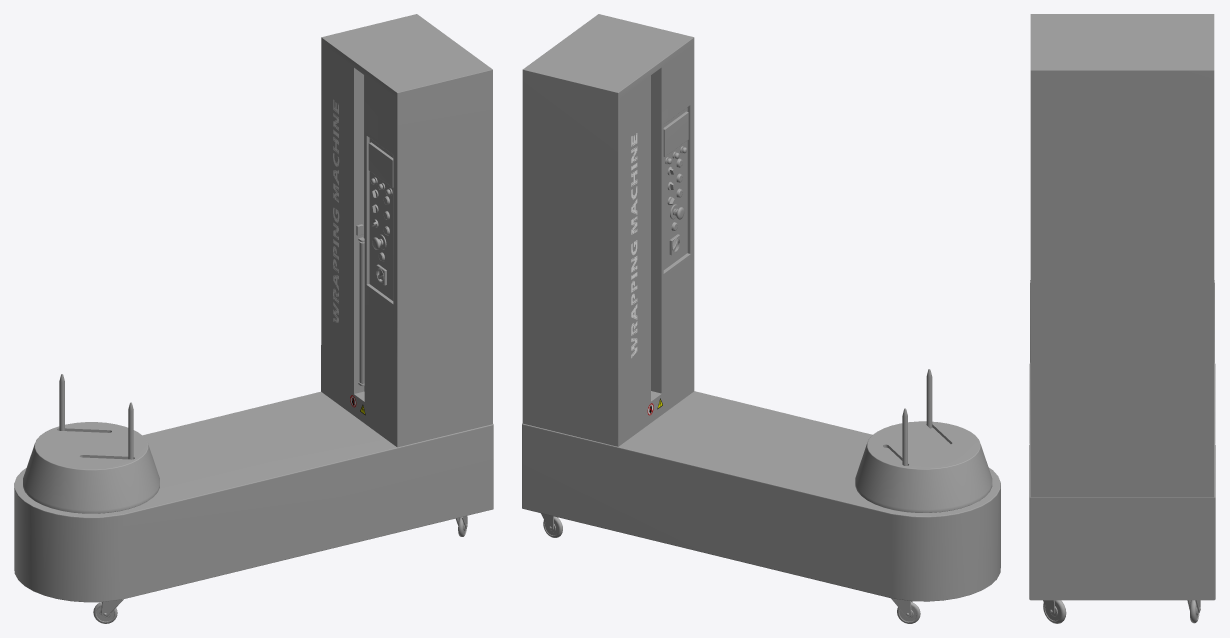
The model's file is baggage_wrapping_machine.fbx.
3 views of the same model, side by side, from view 1: azimuth 30°, elevation 25°; view 2: azimuth 150°, elevation 25°; view 3: azimuth 270°, elevation 25° (orthographic). The views are drawn at different scales.
Visible parts, largest first — view 1: baggage_wrapping_machine, film_roll; view 2: baggage_wrapping_machine; view 3: baggage_wrapping_machine, wheel_4.
Part boxes in pixels (x1,y1,x2,y2): baggage_wrapping_machine: (14, 14, 493, 602); film_roll: (359, 241, 364, 383); baggage_wrapping_machine: (522, 14, 1000, 601); baggage_wrapping_machine: (1029, 14, 1215, 600); wheel_4: (1043, 600, 1066, 623).
Bounding box in the file's own units: 129 × 134 × 40.
